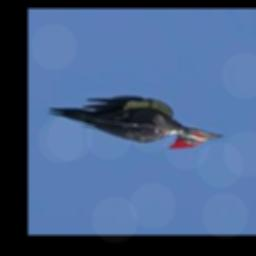Woodpecker: (47, 97, 223, 150)
